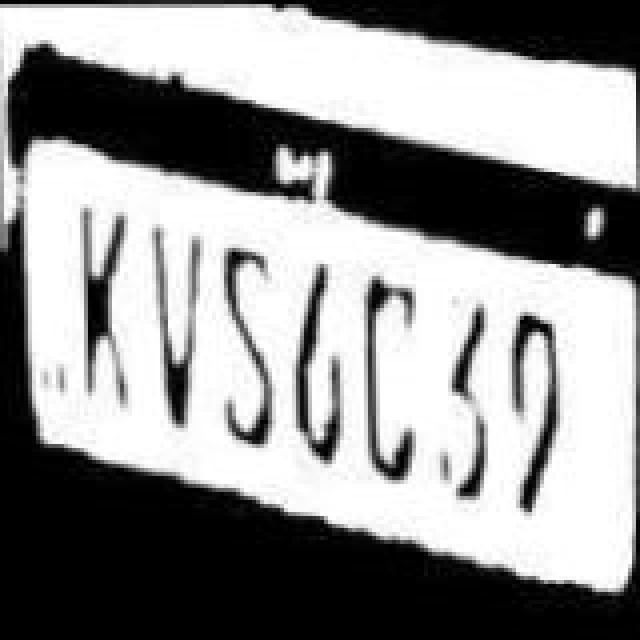3: (424, 276, 504, 516)
6: (280, 230, 356, 482)
9: (484, 298, 556, 530)
C: (346, 252, 426, 496)
K: (66, 176, 138, 428)
S: (206, 226, 278, 462)
V: (144, 196, 212, 436)
